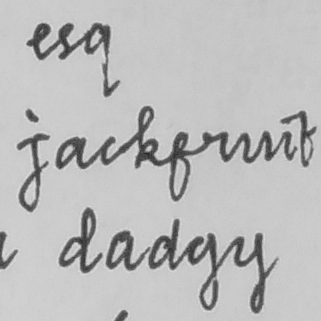a: (52, 133, 91, 172)
c: (93, 134, 121, 168)
f: (165, 130, 193, 202)
i: (276, 113, 297, 162)
j: (13, 130, 50, 215)
k: (129, 102, 161, 173)
r: (198, 129, 231, 163)
t: (299, 106, 320, 169)
u: (237, 125, 274, 166)
